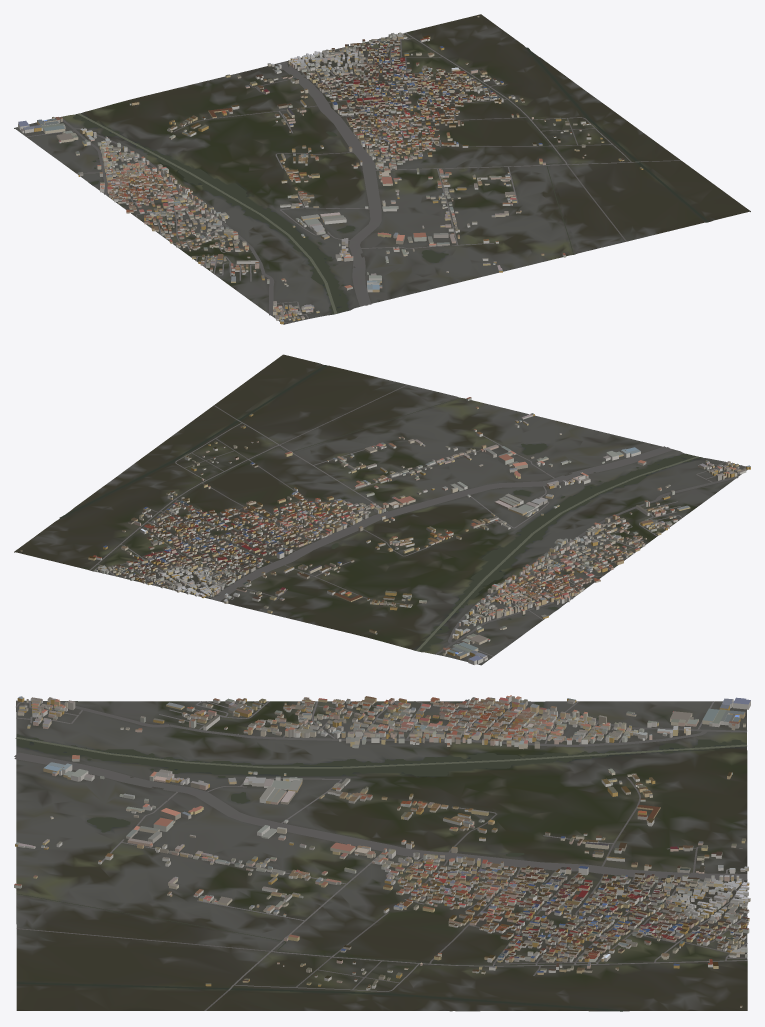
3 renders of one model, top to bottom at view 1: azimuth 30°, elevation 25°; view 2: azimuth 150°, elevation 25°; view 3: azimuth 270°, elevation 25°, orthographic. The views are drawn at different scales.
Visible parts, largest first — view 1: ground, buildings, roads, water; view 2: ground, buildings, roads, water; view 3: ground, buildings, roads, water.
Part boxes in pixels (<box>): ground: <box>14,14,750,324</box>; buildings: <box>18,15,643,324</box>; roads: <box>26,32,681,323</box>; water: <box>73,33,708,314</box>; ground: <box>14,354,747,665</box>; buildings: <box>20,397,750,664</box>; roads: <box>89,384,745,656</box>; water: <box>59,365,702,651</box>; ground: <box>16,700,747,1011</box>; buildings: <box>14,695,750,1007</box>; roads: <box>14,700,747,1010</box>; water: <box>15,702,747,1011</box>.
Size of the model in its own units: 1417 by 26.83 by 1413.
